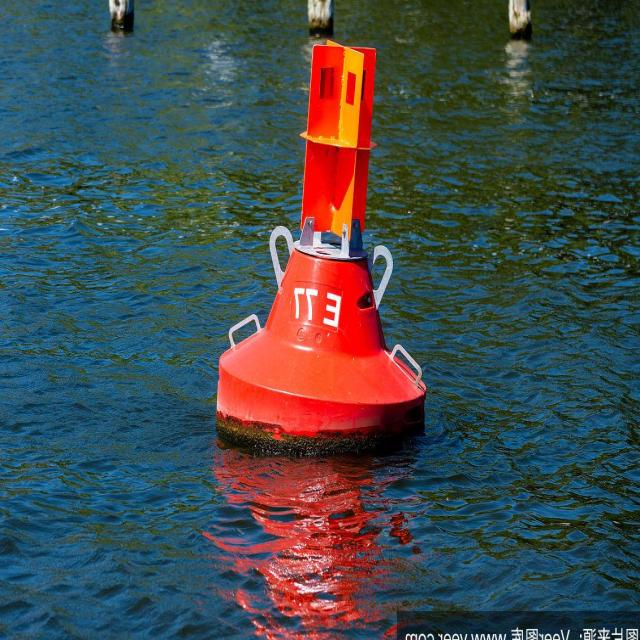buoy: (216, 31, 422, 448)
